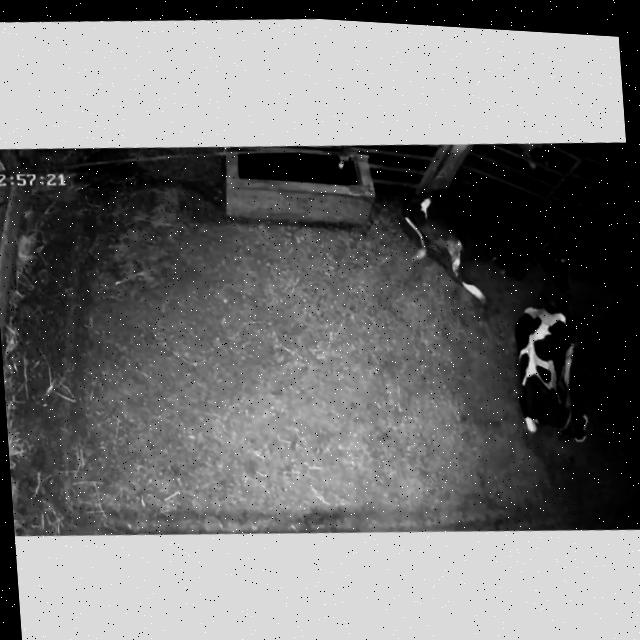lay: (388, 161, 606, 319), (496, 277, 603, 460)
